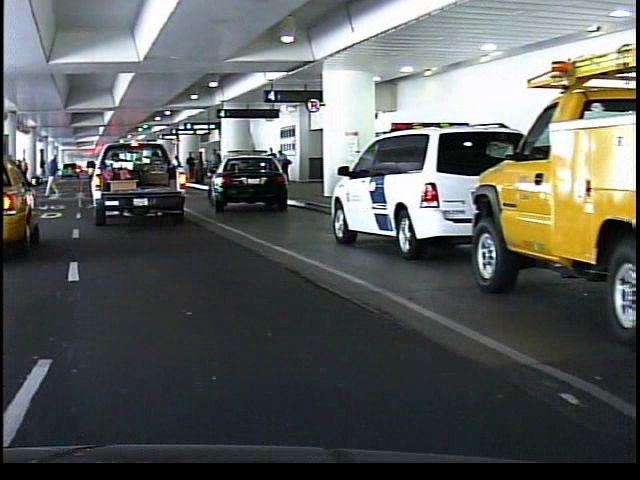person: (42, 151, 59, 200)
